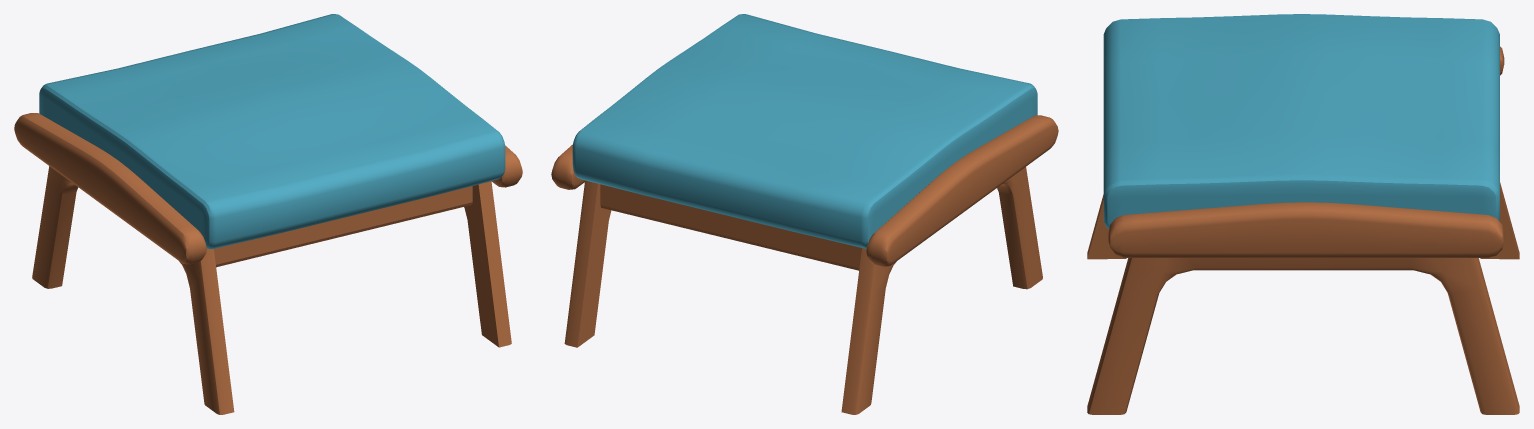
File: Chair_Stool_01.glb
3 views of the same model, side by side, from view 1: azimuth 30°, elevation 25°; view 2: azimuth 150°, elevation 25°; view 3: azimuth 270°, elevation 25° (orthographic). The views are drawn at different scales.
Parts seen in each view (by area): view 1: Mesh_Chair_Stool_01; view 2: Mesh_Chair_Stool_01; view 3: Mesh_Chair_Stool_01.
Boxes of the visible parts, <box> form: Mesh_Chair_Stool_01: <box>14,14,522,414</box>; Mesh_Chair_Stool_01: <box>551,14,1058,414</box>; Mesh_Chair_Stool_01: <box>1087,14,1519,414</box>.
Size of the model in its own units: 0.5662 by 0.3409 by 0.551.
Materials: 1 (1 with a texture image).
